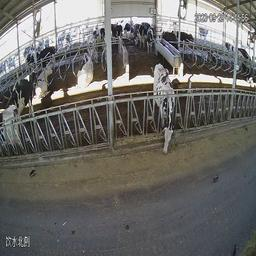cow: (150, 60, 180, 157), (12, 67, 38, 120), (0, 104, 23, 160), (34, 60, 53, 103), (77, 51, 94, 92), (34, 44, 58, 69), (171, 26, 195, 49), (240, 59, 255, 89), (85, 37, 101, 65), (162, 28, 179, 54), (132, 19, 145, 51), (23, 51, 38, 75), (144, 23, 155, 55), (110, 20, 123, 46), (92, 25, 107, 45), (224, 38, 234, 56)
